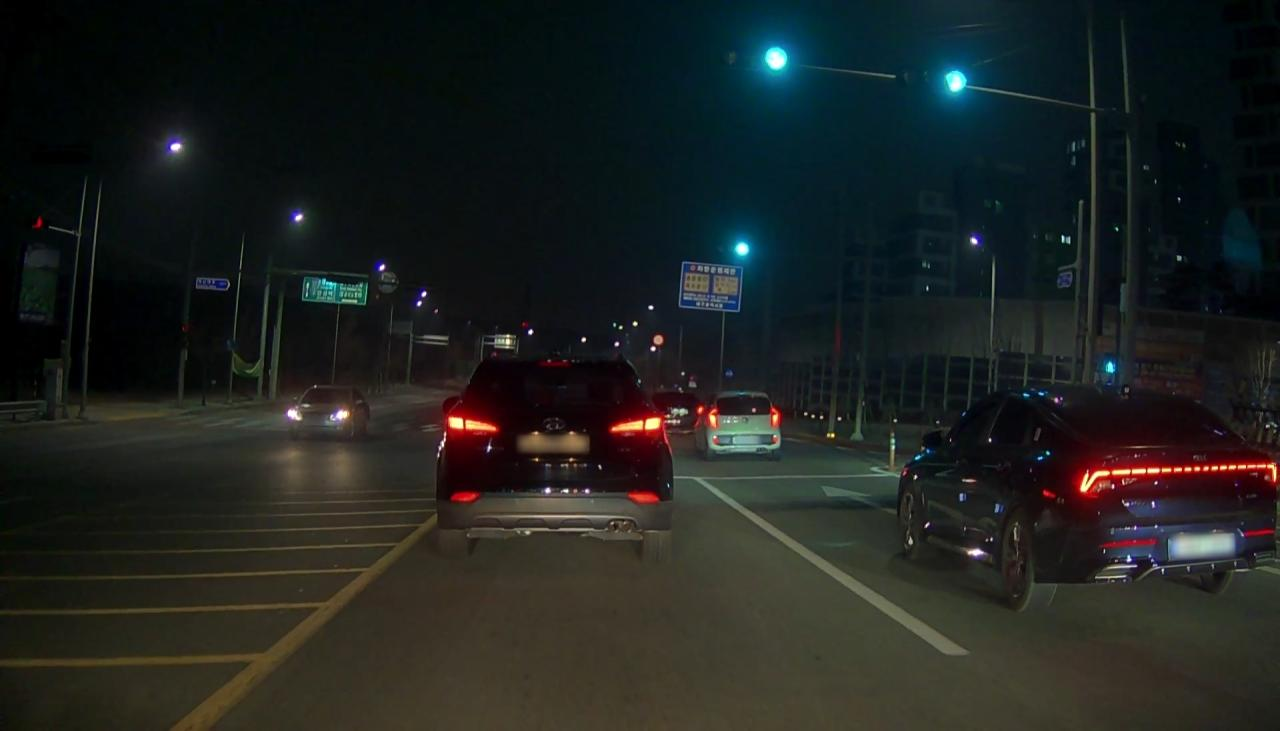Green Light: (760, 41, 792, 76), (939, 66, 970, 100), (730, 238, 754, 259)
